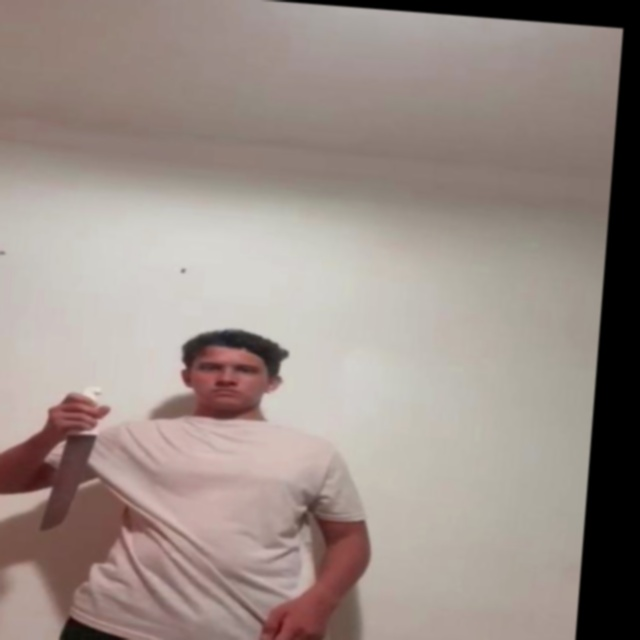Sharp-Object: (44, 429, 95, 531)
